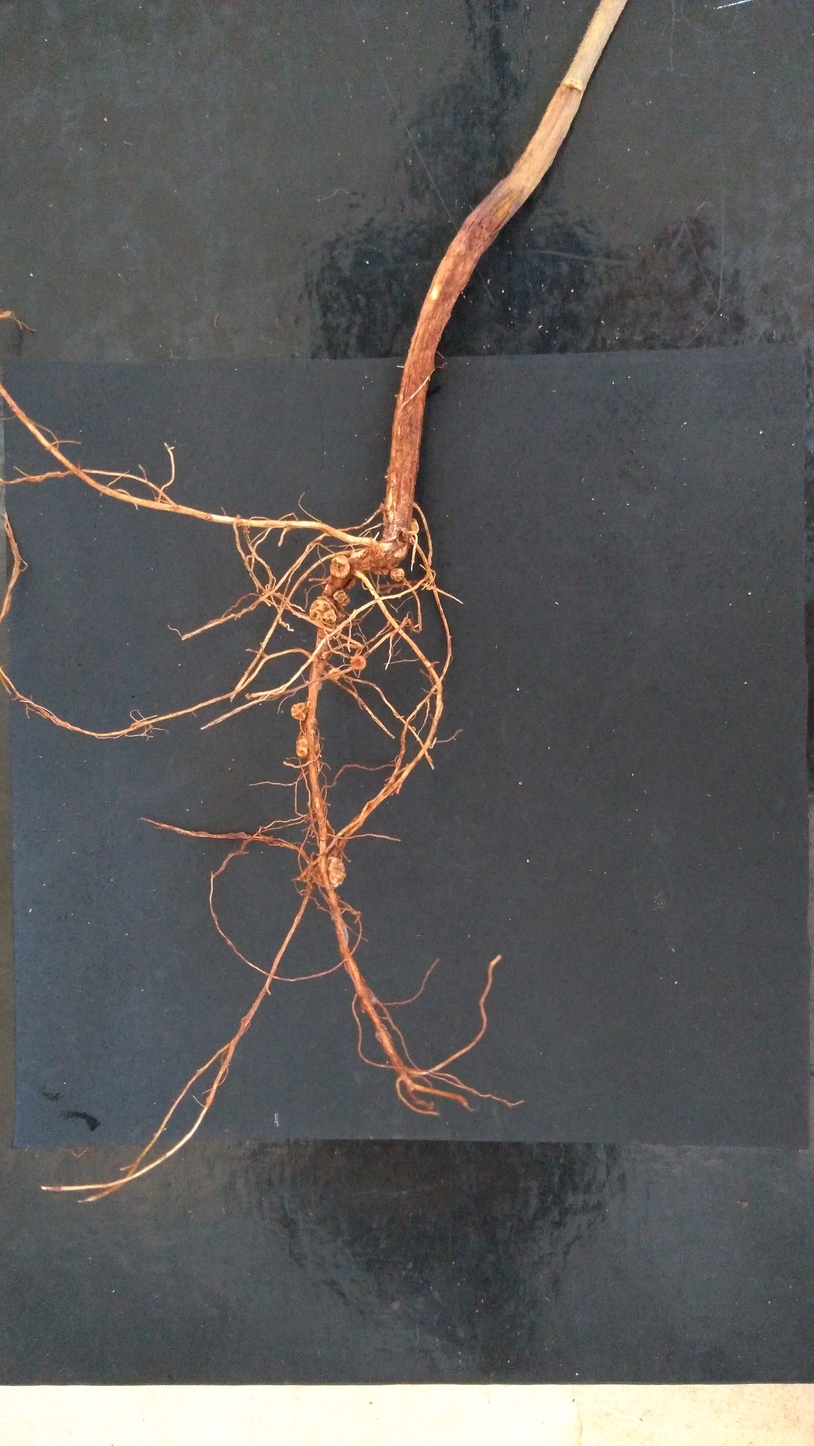nodule: (315, 856, 346, 888), (309, 596, 337, 624), (329, 554, 351, 578), (295, 735, 316, 757), (348, 553, 372, 571), (291, 701, 310, 721), (332, 588, 351, 606), (369, 559, 390, 575), (405, 517, 420, 537), (350, 654, 367, 670), (390, 567, 405, 581), (328, 667, 341, 681), (343, 576, 357, 589), (321, 650, 332, 660)
